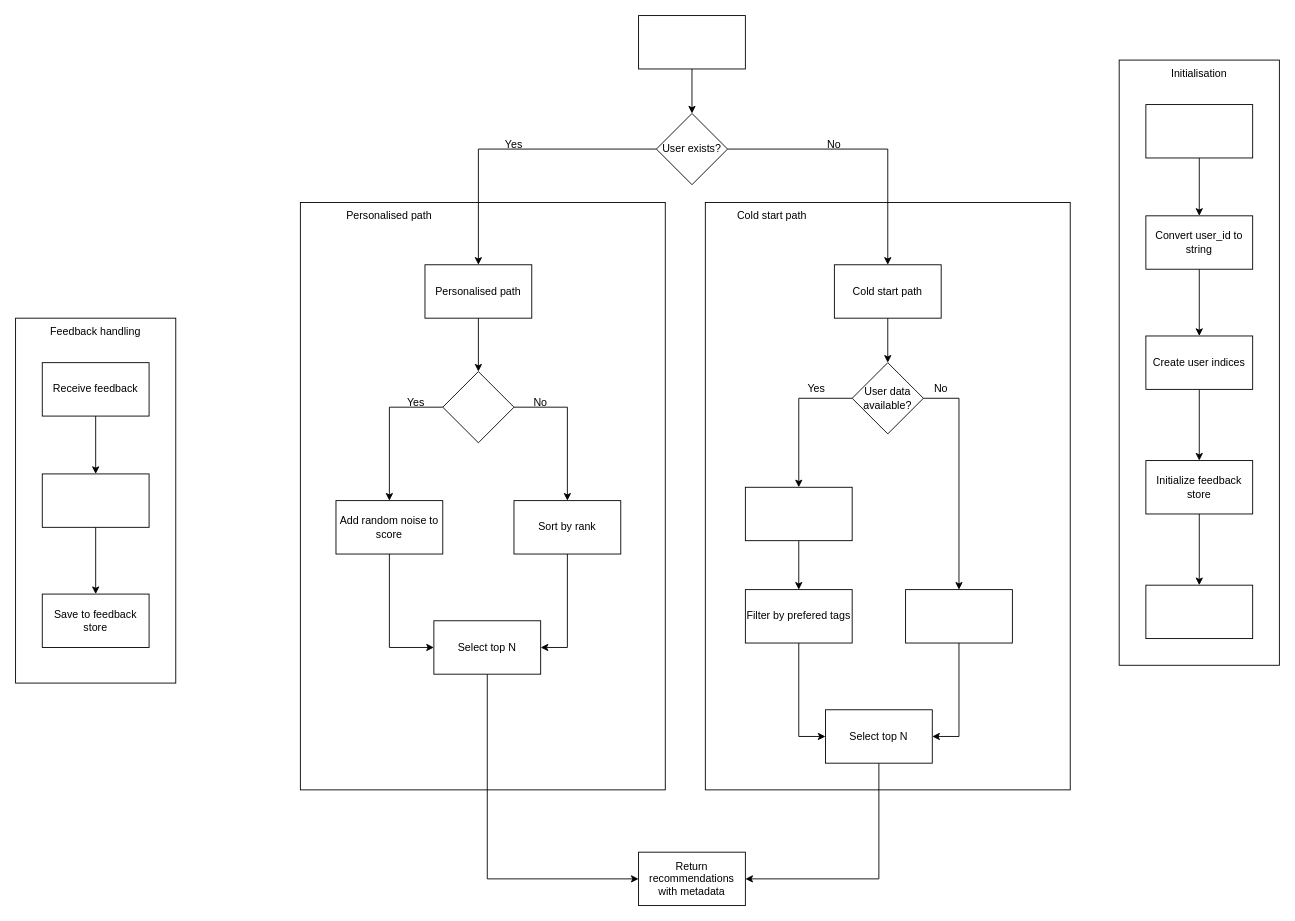
The diagram is 1295 pixels wide and 921 high, and some of its shapes have lost their labels. The box of each missing label's shape, as (x1, y1, x2, y2) in pixels:
Filter by prefered genres: (744, 486, 852, 541)
Load cold start recommendations: (1145, 584, 1253, 639)
Load recommendations: (1145, 104, 1253, 158)
Randomize: (442, 371, 514, 443)
Record rating: (41, 473, 149, 527)
Use general cold start recommendations: (905, 589, 1012, 643)
User request: (638, 15, 745, 69)
